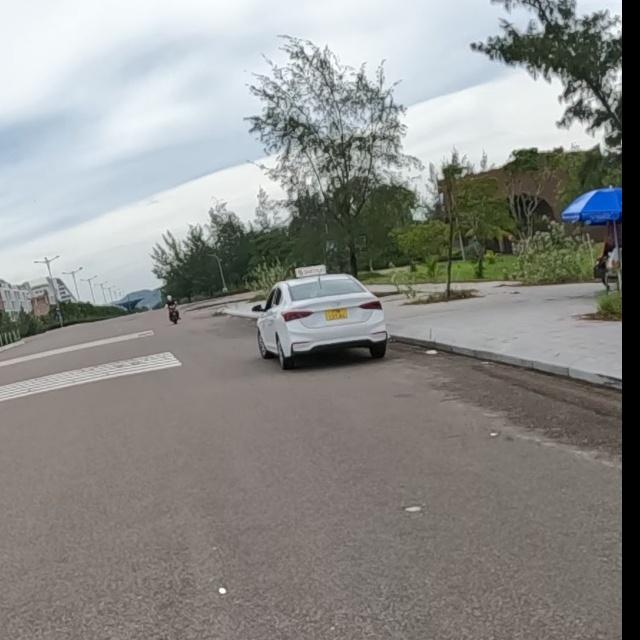license-plate: (324, 308, 348, 320)
